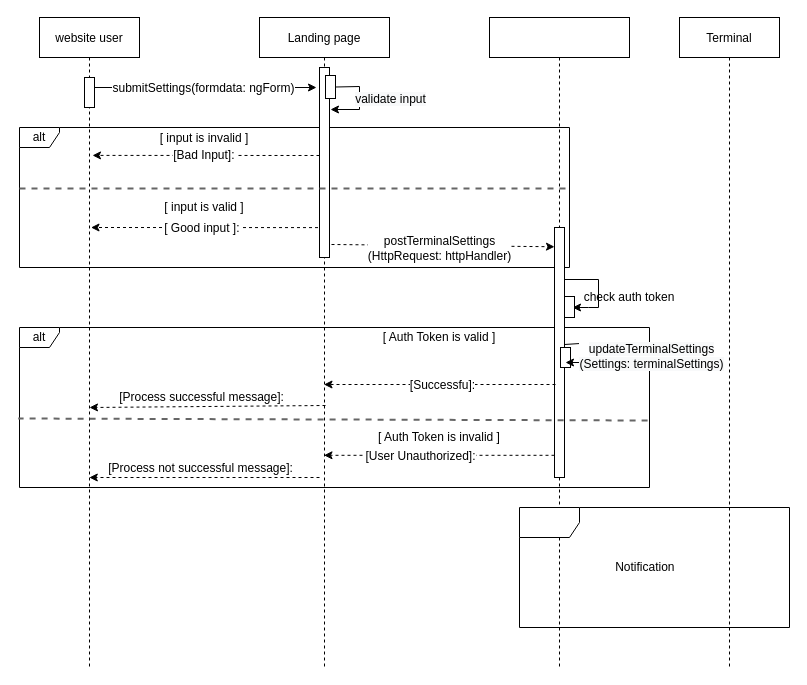
The diagram is 807 pixels wide and 685 high, and some of its shapes have lost their labels. Each missing label, with the box of its shape:
Backend: (488, 16, 630, 668)
Ref: (518, 506, 790, 628)
